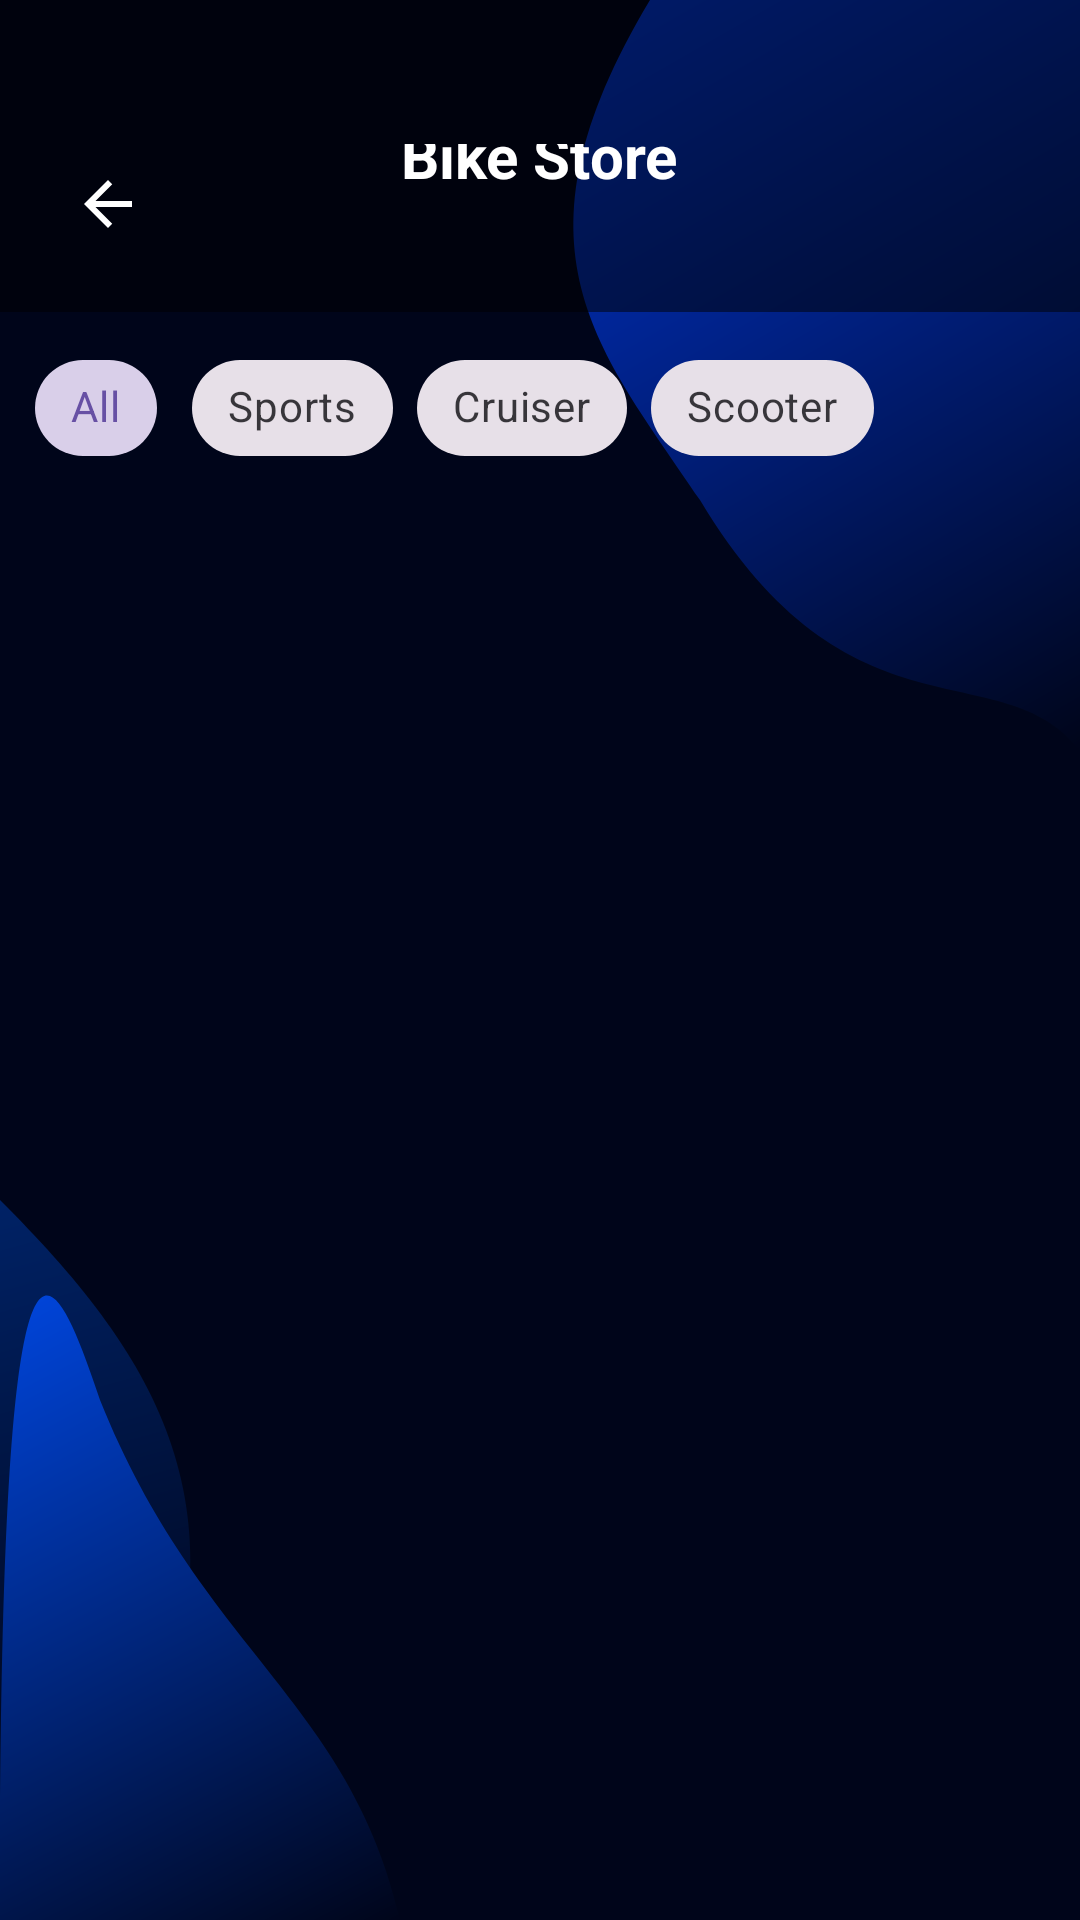

Screen size 1080px x 1920px. Icon name, then its center in pixels as (x=x, y=y):
back: (x=108, y=204)
